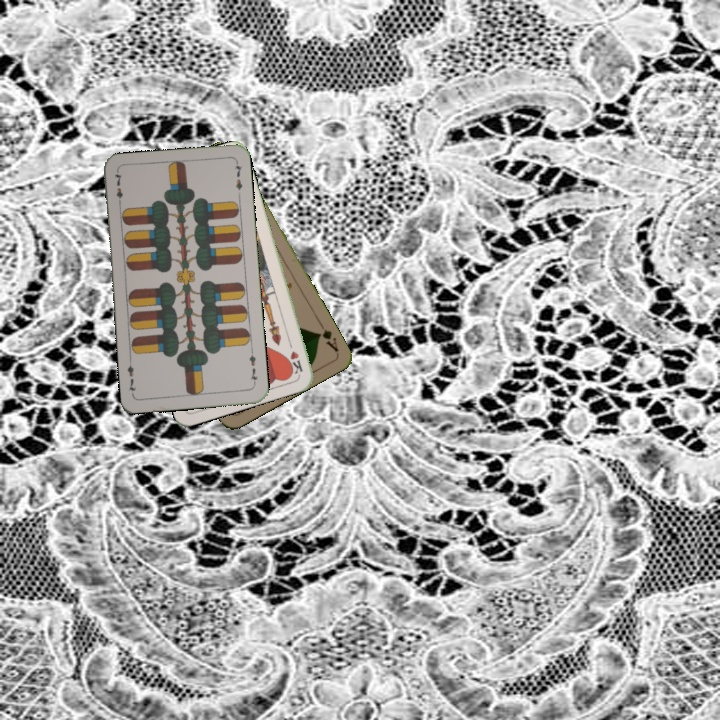E7: (110, 168, 125, 209), (245, 347, 260, 387)
GA: (313, 318, 341, 354)
HK: (284, 336, 305, 377)
